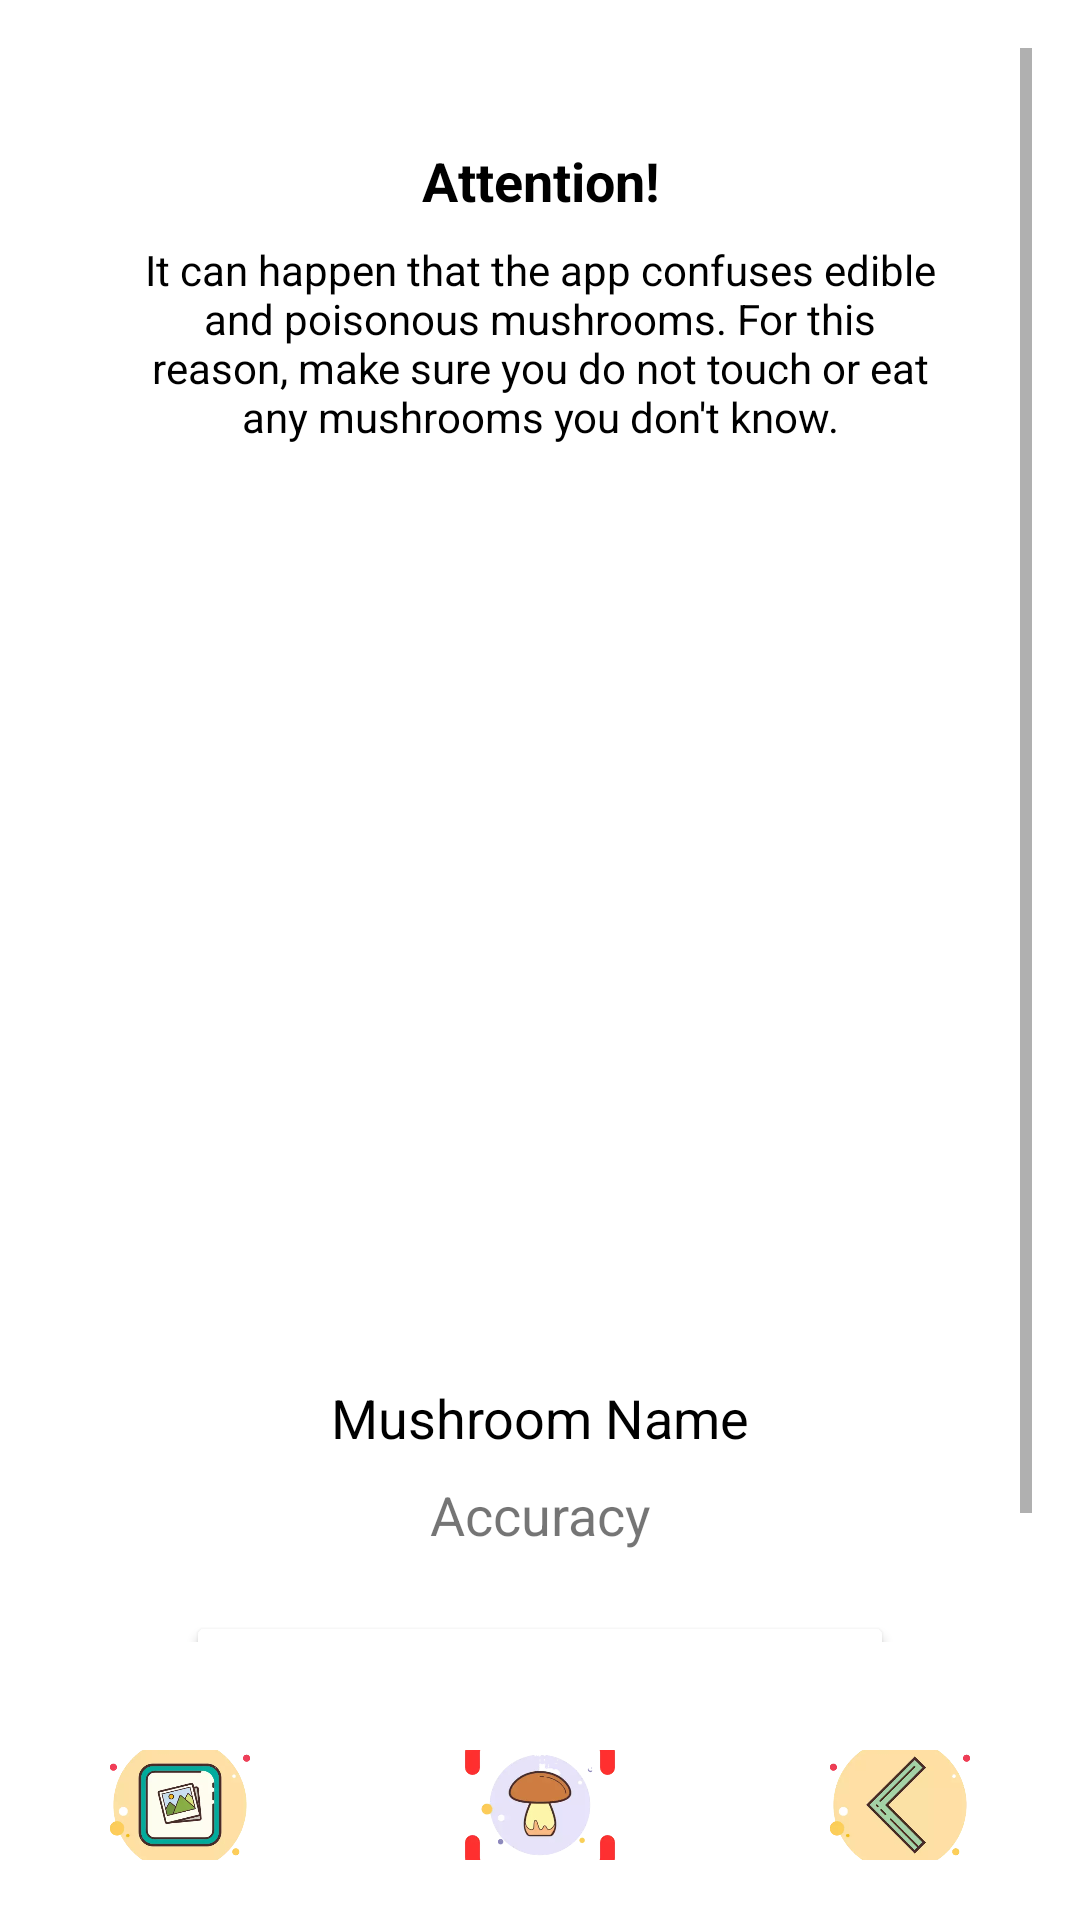

Where icons sit on this 1080x1920 app screen, as rect(x1, y1, x2, y2):
ambil gambar: rect(465, 1750, 615, 1860)
import image: rect(110, 1750, 250, 1860)
kembali: rect(830, 1750, 970, 1860)
